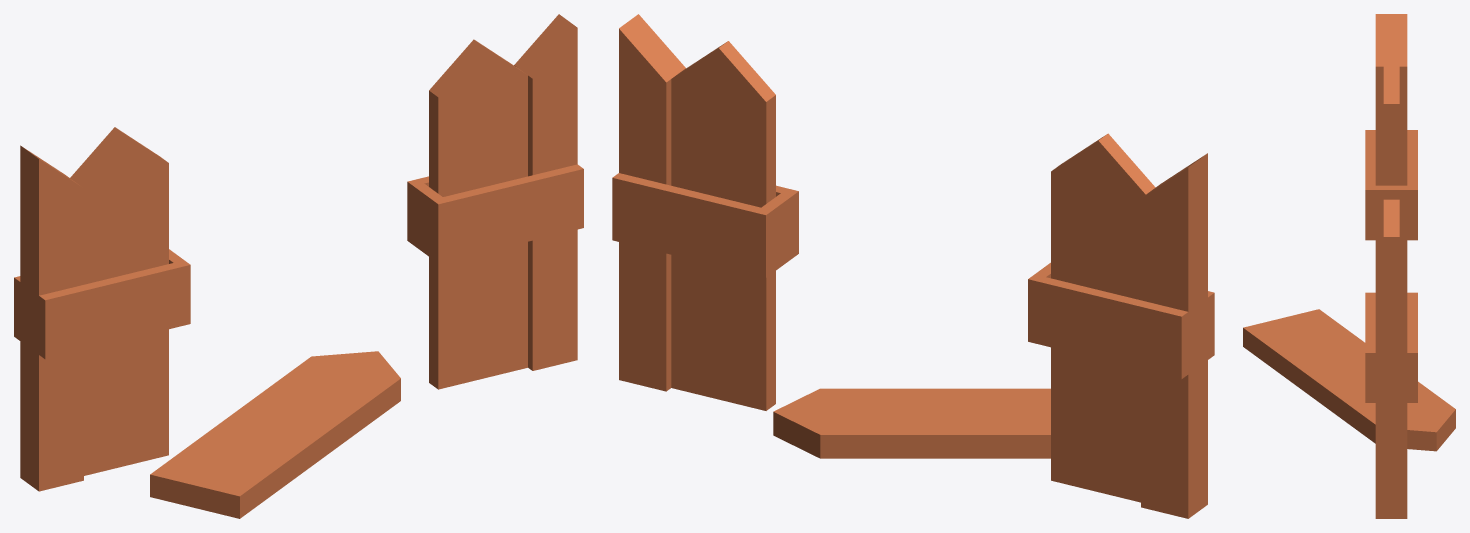
Rendered from fenceDamaged.dae.
3 views of the same model, side by side, from view 1: azimuth 30°, elevation 25°; view 2: azimuth 150°, elevation 25°; view 3: azimuth 270°, elevation 25° (orthographic). The views are drawn at different scales.
Visible parts, largest first — view 1: fenceDamaged, board (×2); view 2: fenceDamaged, board (×2); view 3: fenceDamaged, board (×2).
Boxes of the visible parts, x1=… form: fenceDamaged: x1=20, y1=14, x2=577, y2=518; board (×2): x1=14, y1=164, x2=583, y2=359; fenceDamaged: x1=619, y1=14, x2=1207, y2=518; board (×2): x1=612, y1=173, x2=1214, y2=379; fenceDamaged: x1=1243, y1=14, x2=1455, y2=518; board (×2): x1=1365, y1=130, x2=1417, y2=402.
Bounding box in the file's own units: 1 × 0.59 × 0.4036.
